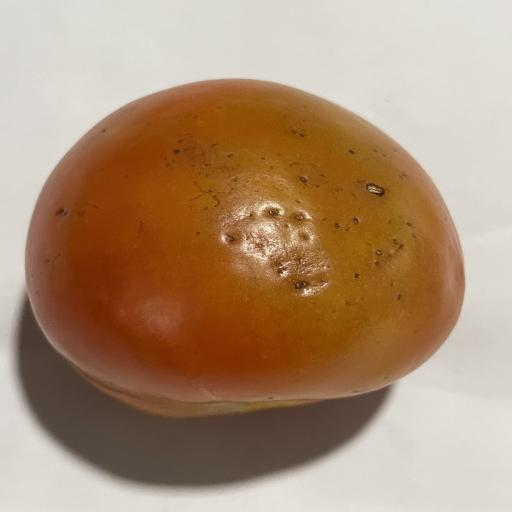overipe: (26, 80, 464, 417)
